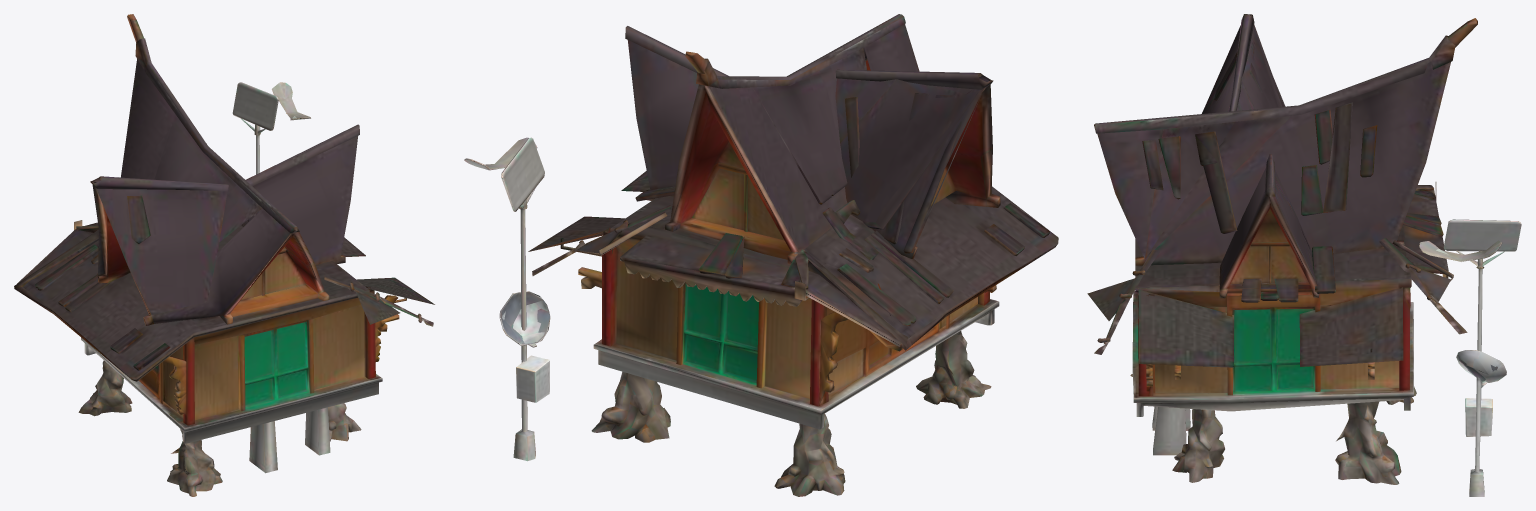
File: maranao_torogan.glb
3 views of the same model, side by side, from view 1: azimuth 30°, elevation 25°; view 2: azimuth 150°, elevation 25°; view 3: azimuth 270°, elevation 25° (orthographic). The views are drawn at different scales.
Parts seen in each view (by area): view 1: Body; view 2: Body; view 3: Body.
Part boxes in pixels (bbox=[...]): Body: bbox=[14, 14, 434, 496]; Body: bbox=[464, 14, 1058, 496]; Body: bbox=[1087, 14, 1521, 496].
Bounding box in the file's own units: 11.67 × 12.59 × 12.16.
1 material, 1 textured.
